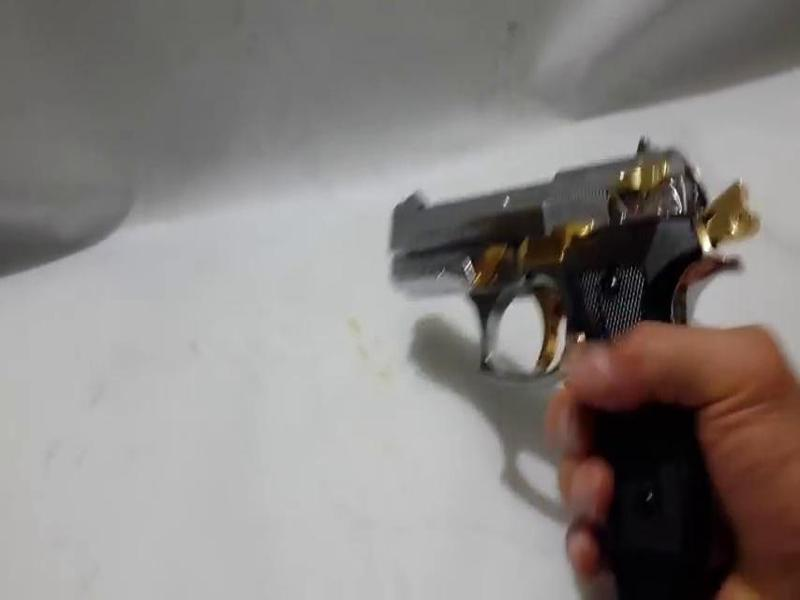Pistola: (384, 128, 742, 441)
